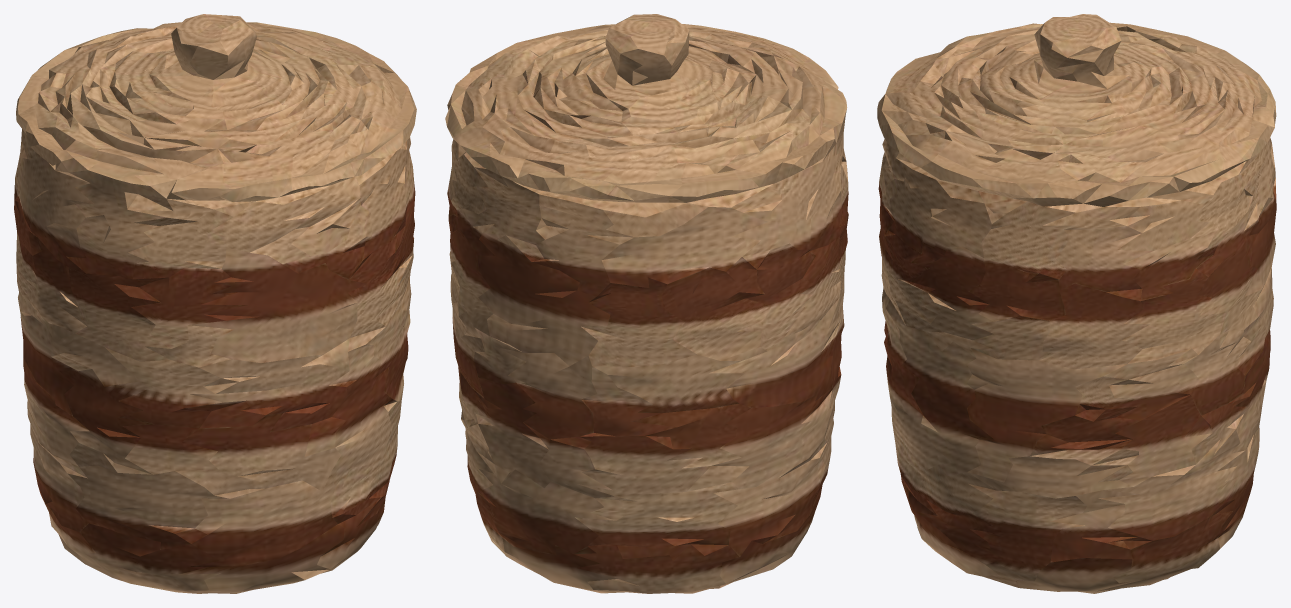
File: basket.glb
The picture shows the model from 3 angles, left to right: view 1: azimuth 30°, elevation 25°; view 2: azimuth 150°, elevation 25°; view 3: azimuth 270°, elevation 25°; orthographic projection.
Visible parts, largest first — view 1: output_unwrapped; view 2: output_unwrapped; view 3: output_unwrapped.
Boxes of the visible parts, <box> form: output_unwrapped: <box>14,14,416,593</box>; output_unwrapped: <box>445,14,848,593</box>; output_unwrapped: <box>877,14,1276,593</box>.
Size of the model in its own units: 0.5342 by 0.75 by 0.5325.
1 material, 1 textured.
